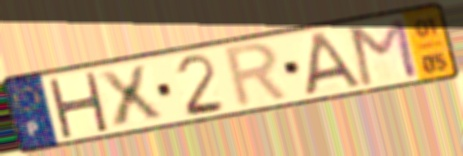2: (174, 52, 228, 119)
A: (303, 29, 364, 98)
H: (44, 70, 111, 139)
M: (347, 14, 421, 89)
R: (222, 39, 293, 112)
X: (94, 62, 167, 130)
